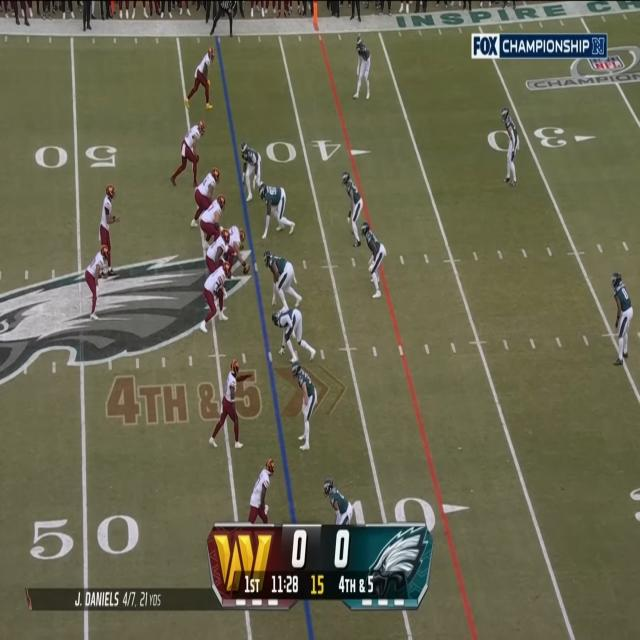Ball: (242, 263, 250, 277)
